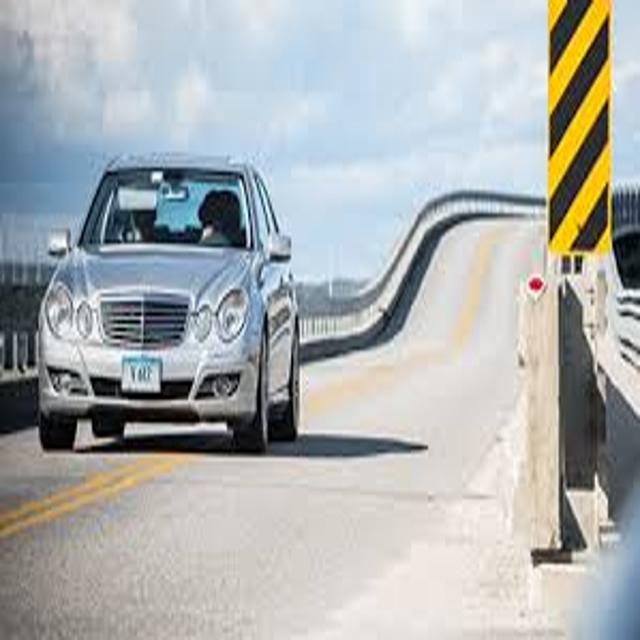car: (39, 153, 299, 451)
